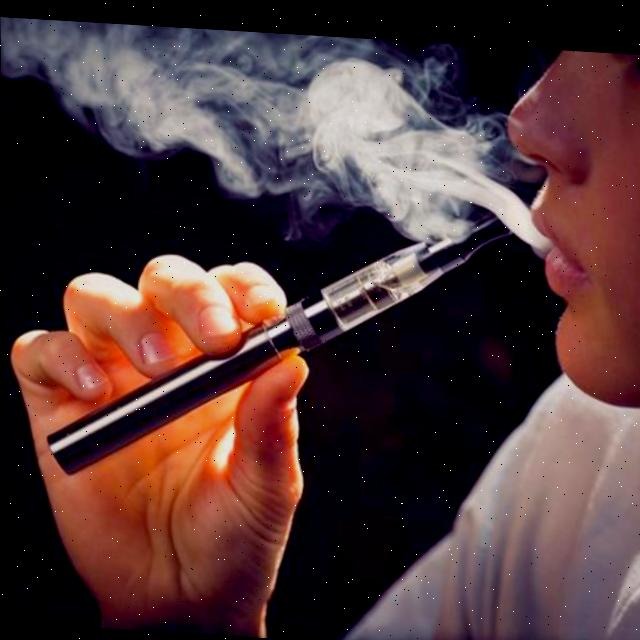vape: (40, 188, 516, 498)
